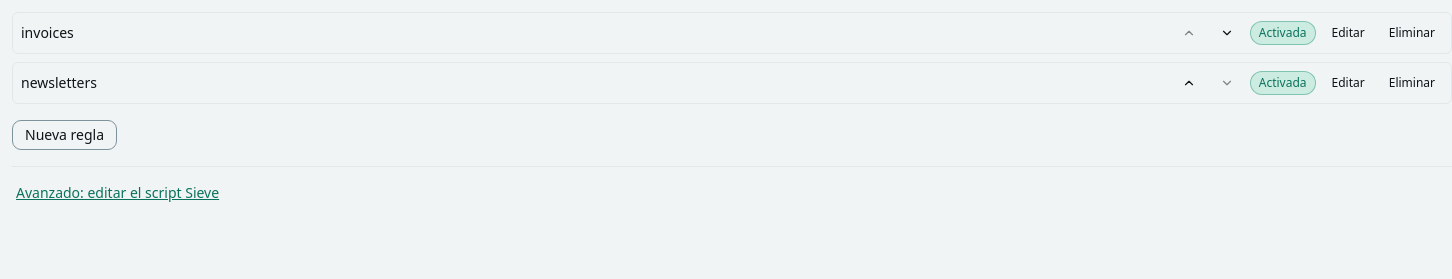
Test: FilterSettings › shows the sync-failed banner with a working retry button
This screenshot has width=1452, height=279.
Expected: the text "invoices" is shown, [21,23,74,43]
Click the button "Eliminar" in the row of "invoices".
click(1412, 33)  # box [1381,21,1443,45]
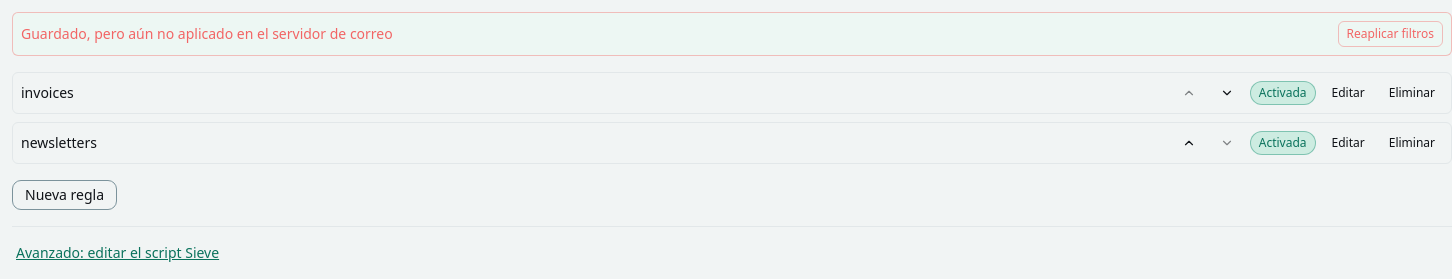
Expected: the message shows "Guardado, pero aún no aplicado en el servidor de correo", [21,24,393,43]
Click the button "Reaplicar filtros".
click(1390, 34)  # box [1338,21,1443,47]
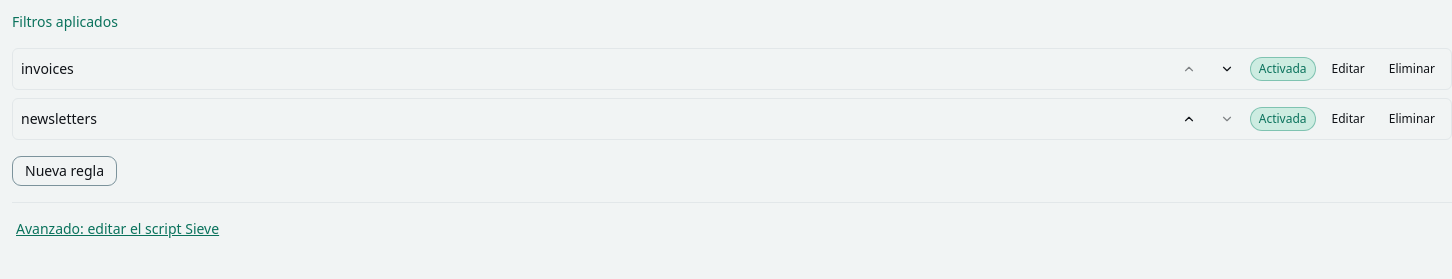
Expected: the text "Filtros aplicados" is shown, [12,12,118,31]
Expected: the message "Guardado, pero aún no aplicado en el servidor de correo Reaplicar filtros" is gone
